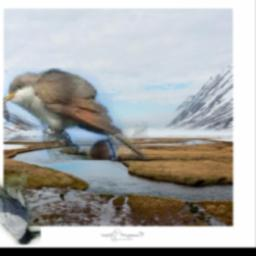Crow: (0, 169, 40, 245)
Cuckoo: (3, 68, 147, 160)
